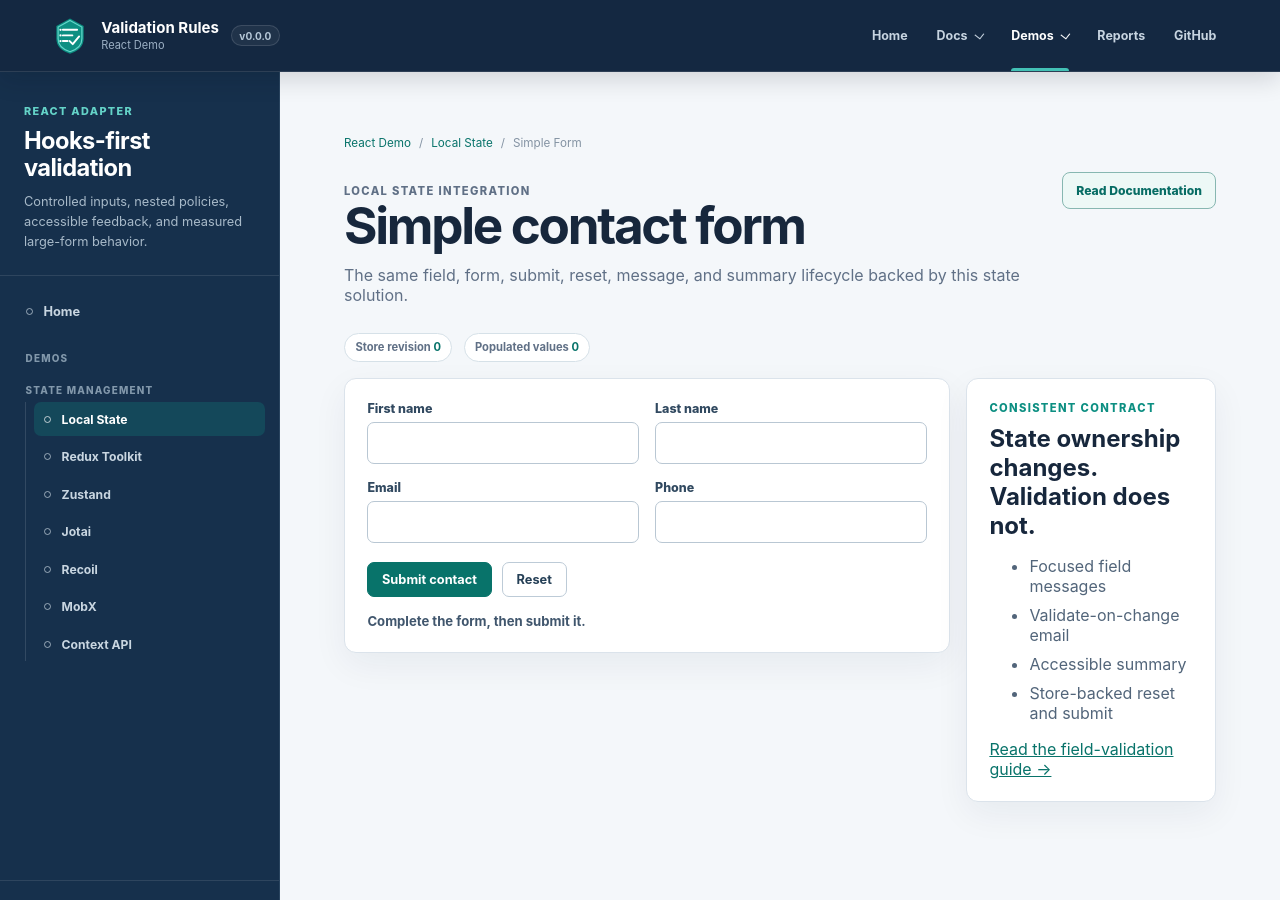
Test: Local State state integration › validates, submits, and resets the simple form with messages and summary
The image size is (1280, 900).
Click the button "Submit contact" at (430, 580), box [367,562,492,597]
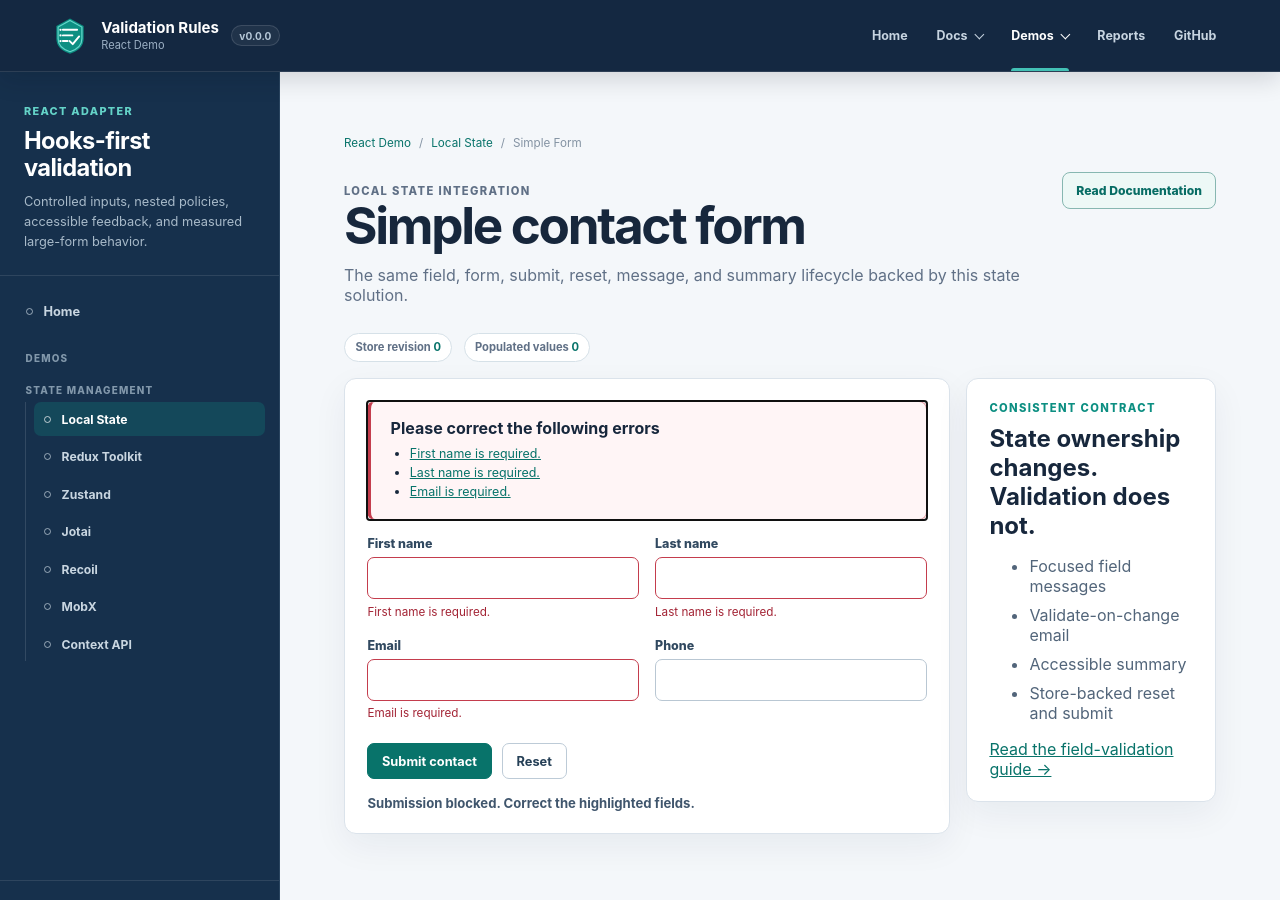
Result: the text "Submission blocked. Correct the highlighted fields." is shown at [367,795,695,811]
Result: the message that starts with "Please correct the following errors" is shown at [367,402,927,520]
Type "Avery" into the field labelled "First name" at (503, 578), box [367,557,639,599]
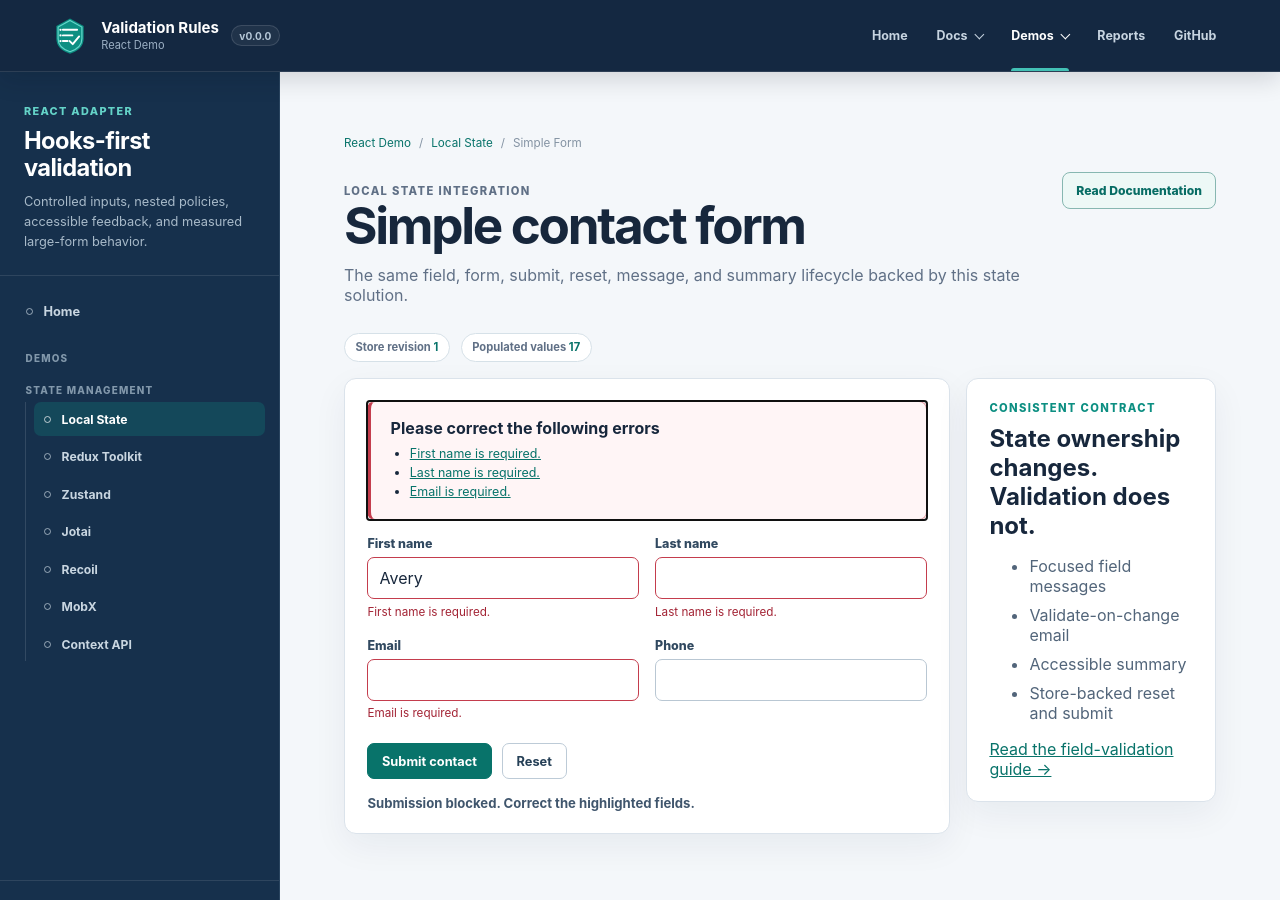
Type "Patel" into the field labelled "Last name" at (791, 578), box [655,557,927,599]
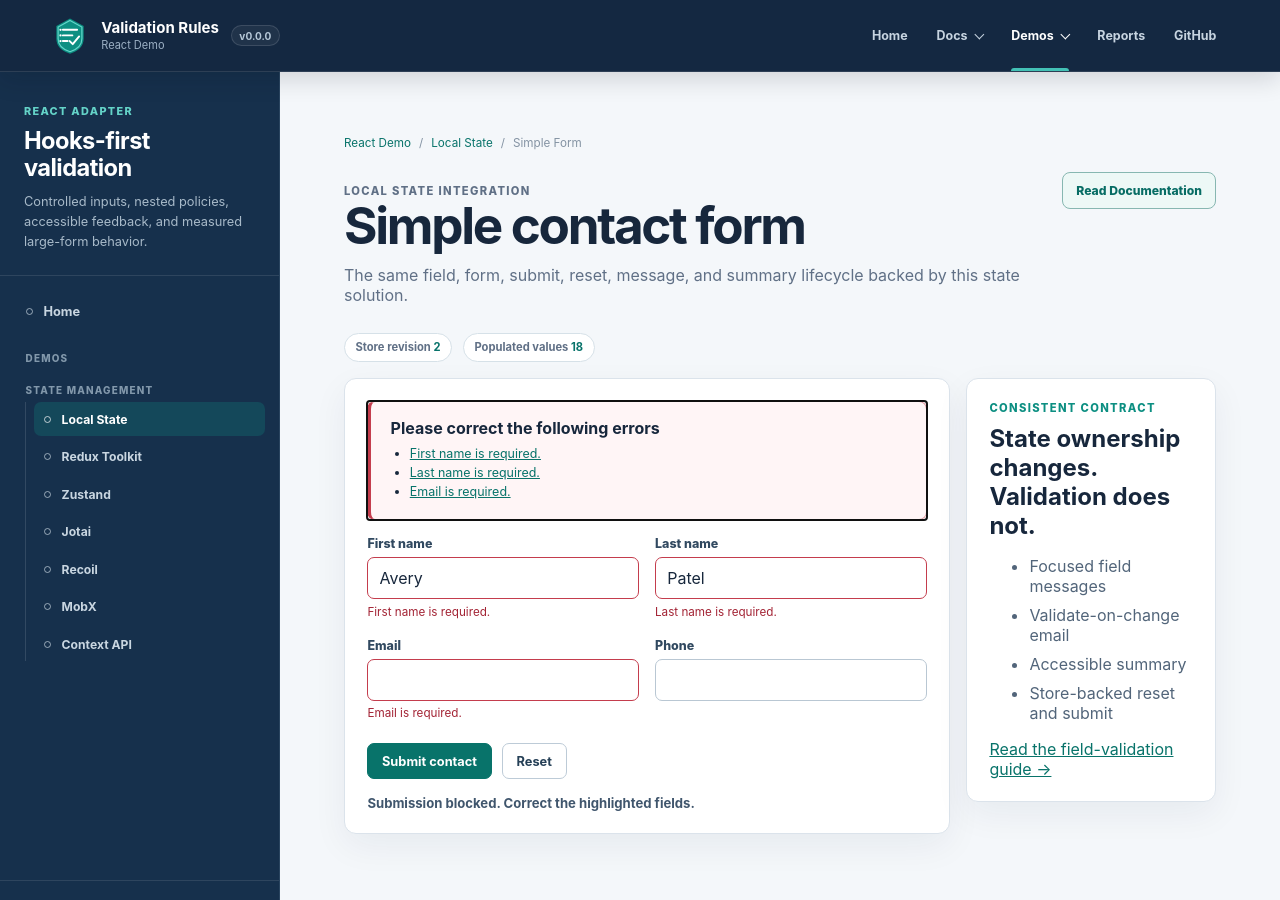
Type "avery@example.com" into the field labelled "Email" at (503, 680), box [367,659,639,701]
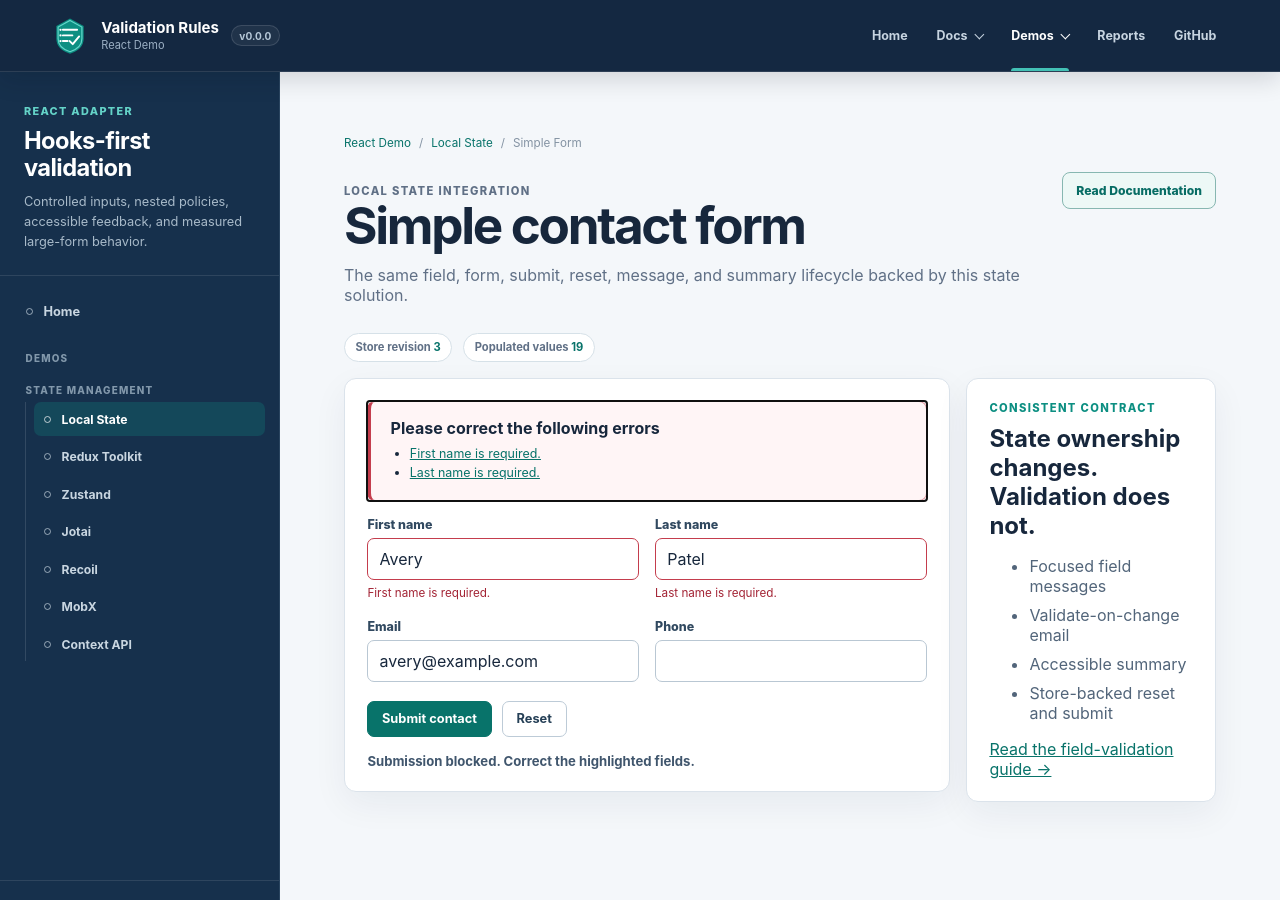
Click the button "Submit contact" at (430, 719), box [367,701,492,736]
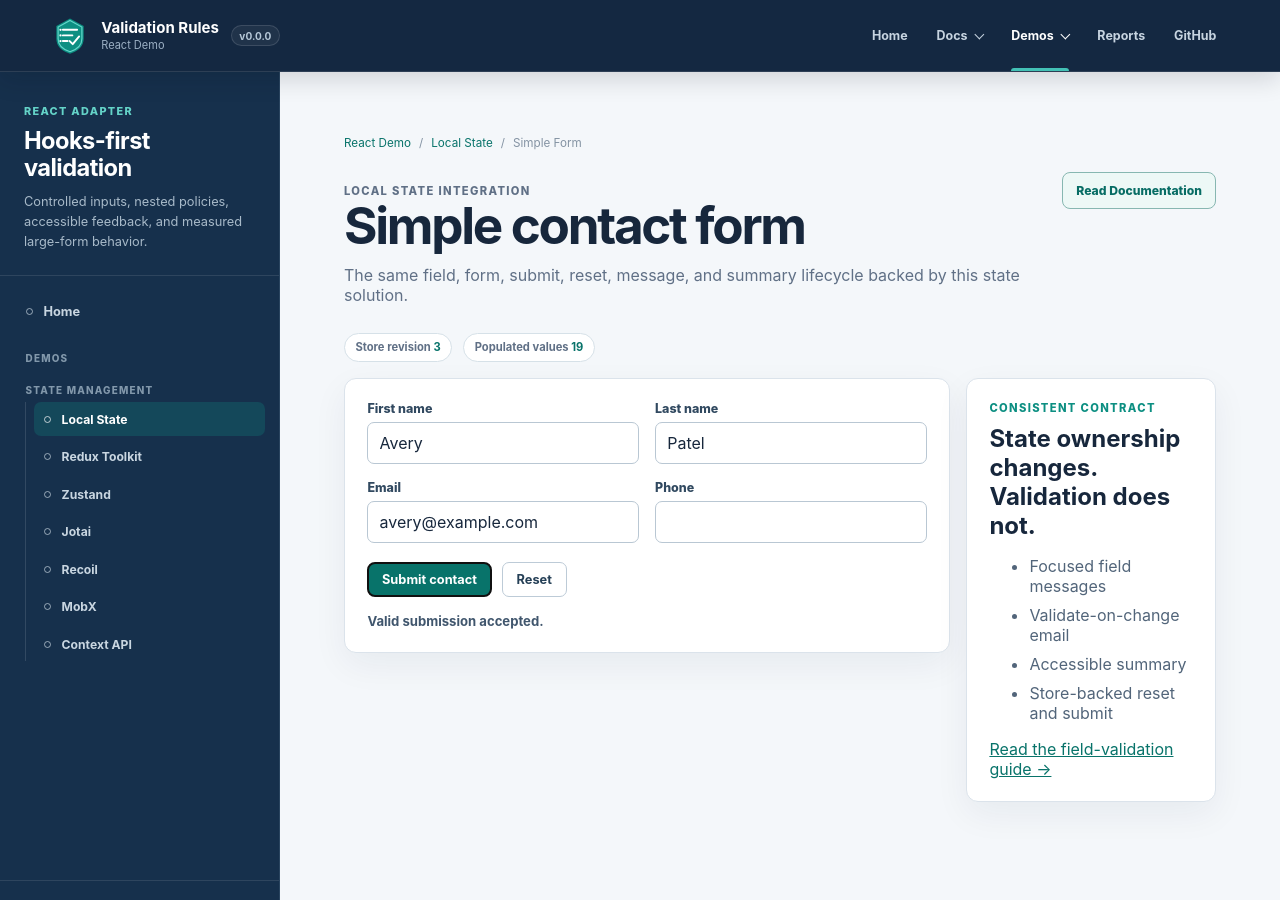
Result: the text "Valid submission accepted." is shown at [367,613,544,629]
Click the button "Reset" at (534, 580), box [502,562,566,597]
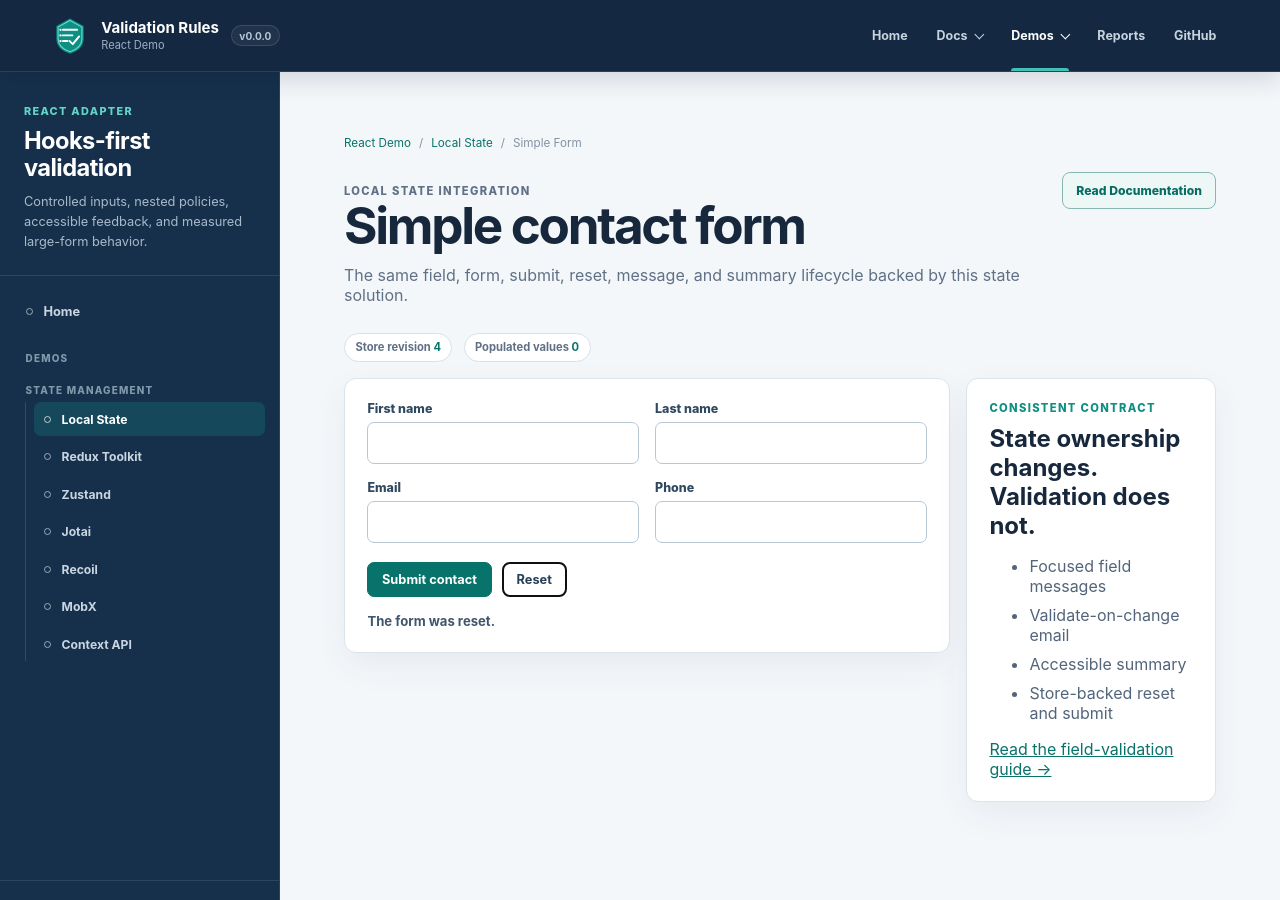
Result: the field labelled "First name" is empty at [367,422,639,464]
Result: the text "The form was reset." is shown at [367,613,495,629]
